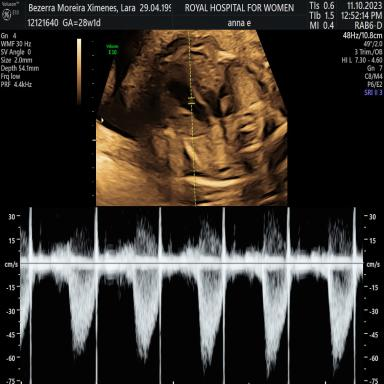Ultrasound-Waves: (25, 208, 356, 384)
